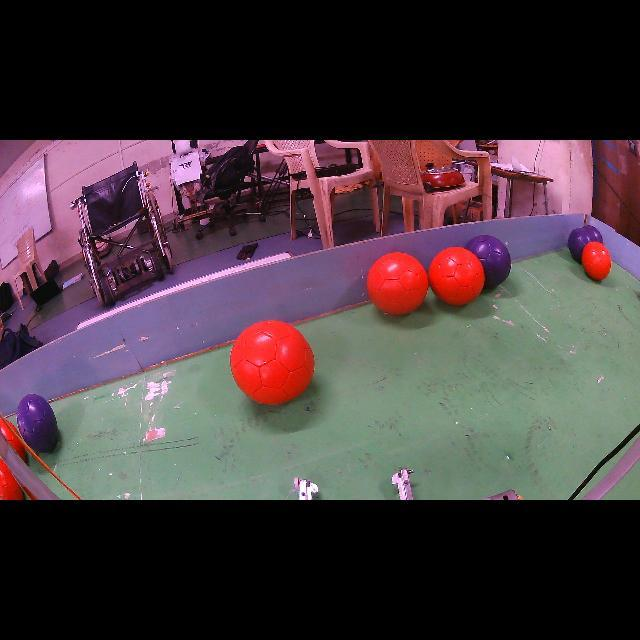P: (16, 394, 59, 452), (465, 235, 511, 288), (568, 225, 604, 262)
R: (230, 320, 314, 404), (368, 252, 429, 315), (429, 248, 485, 306), (581, 241, 611, 280)
